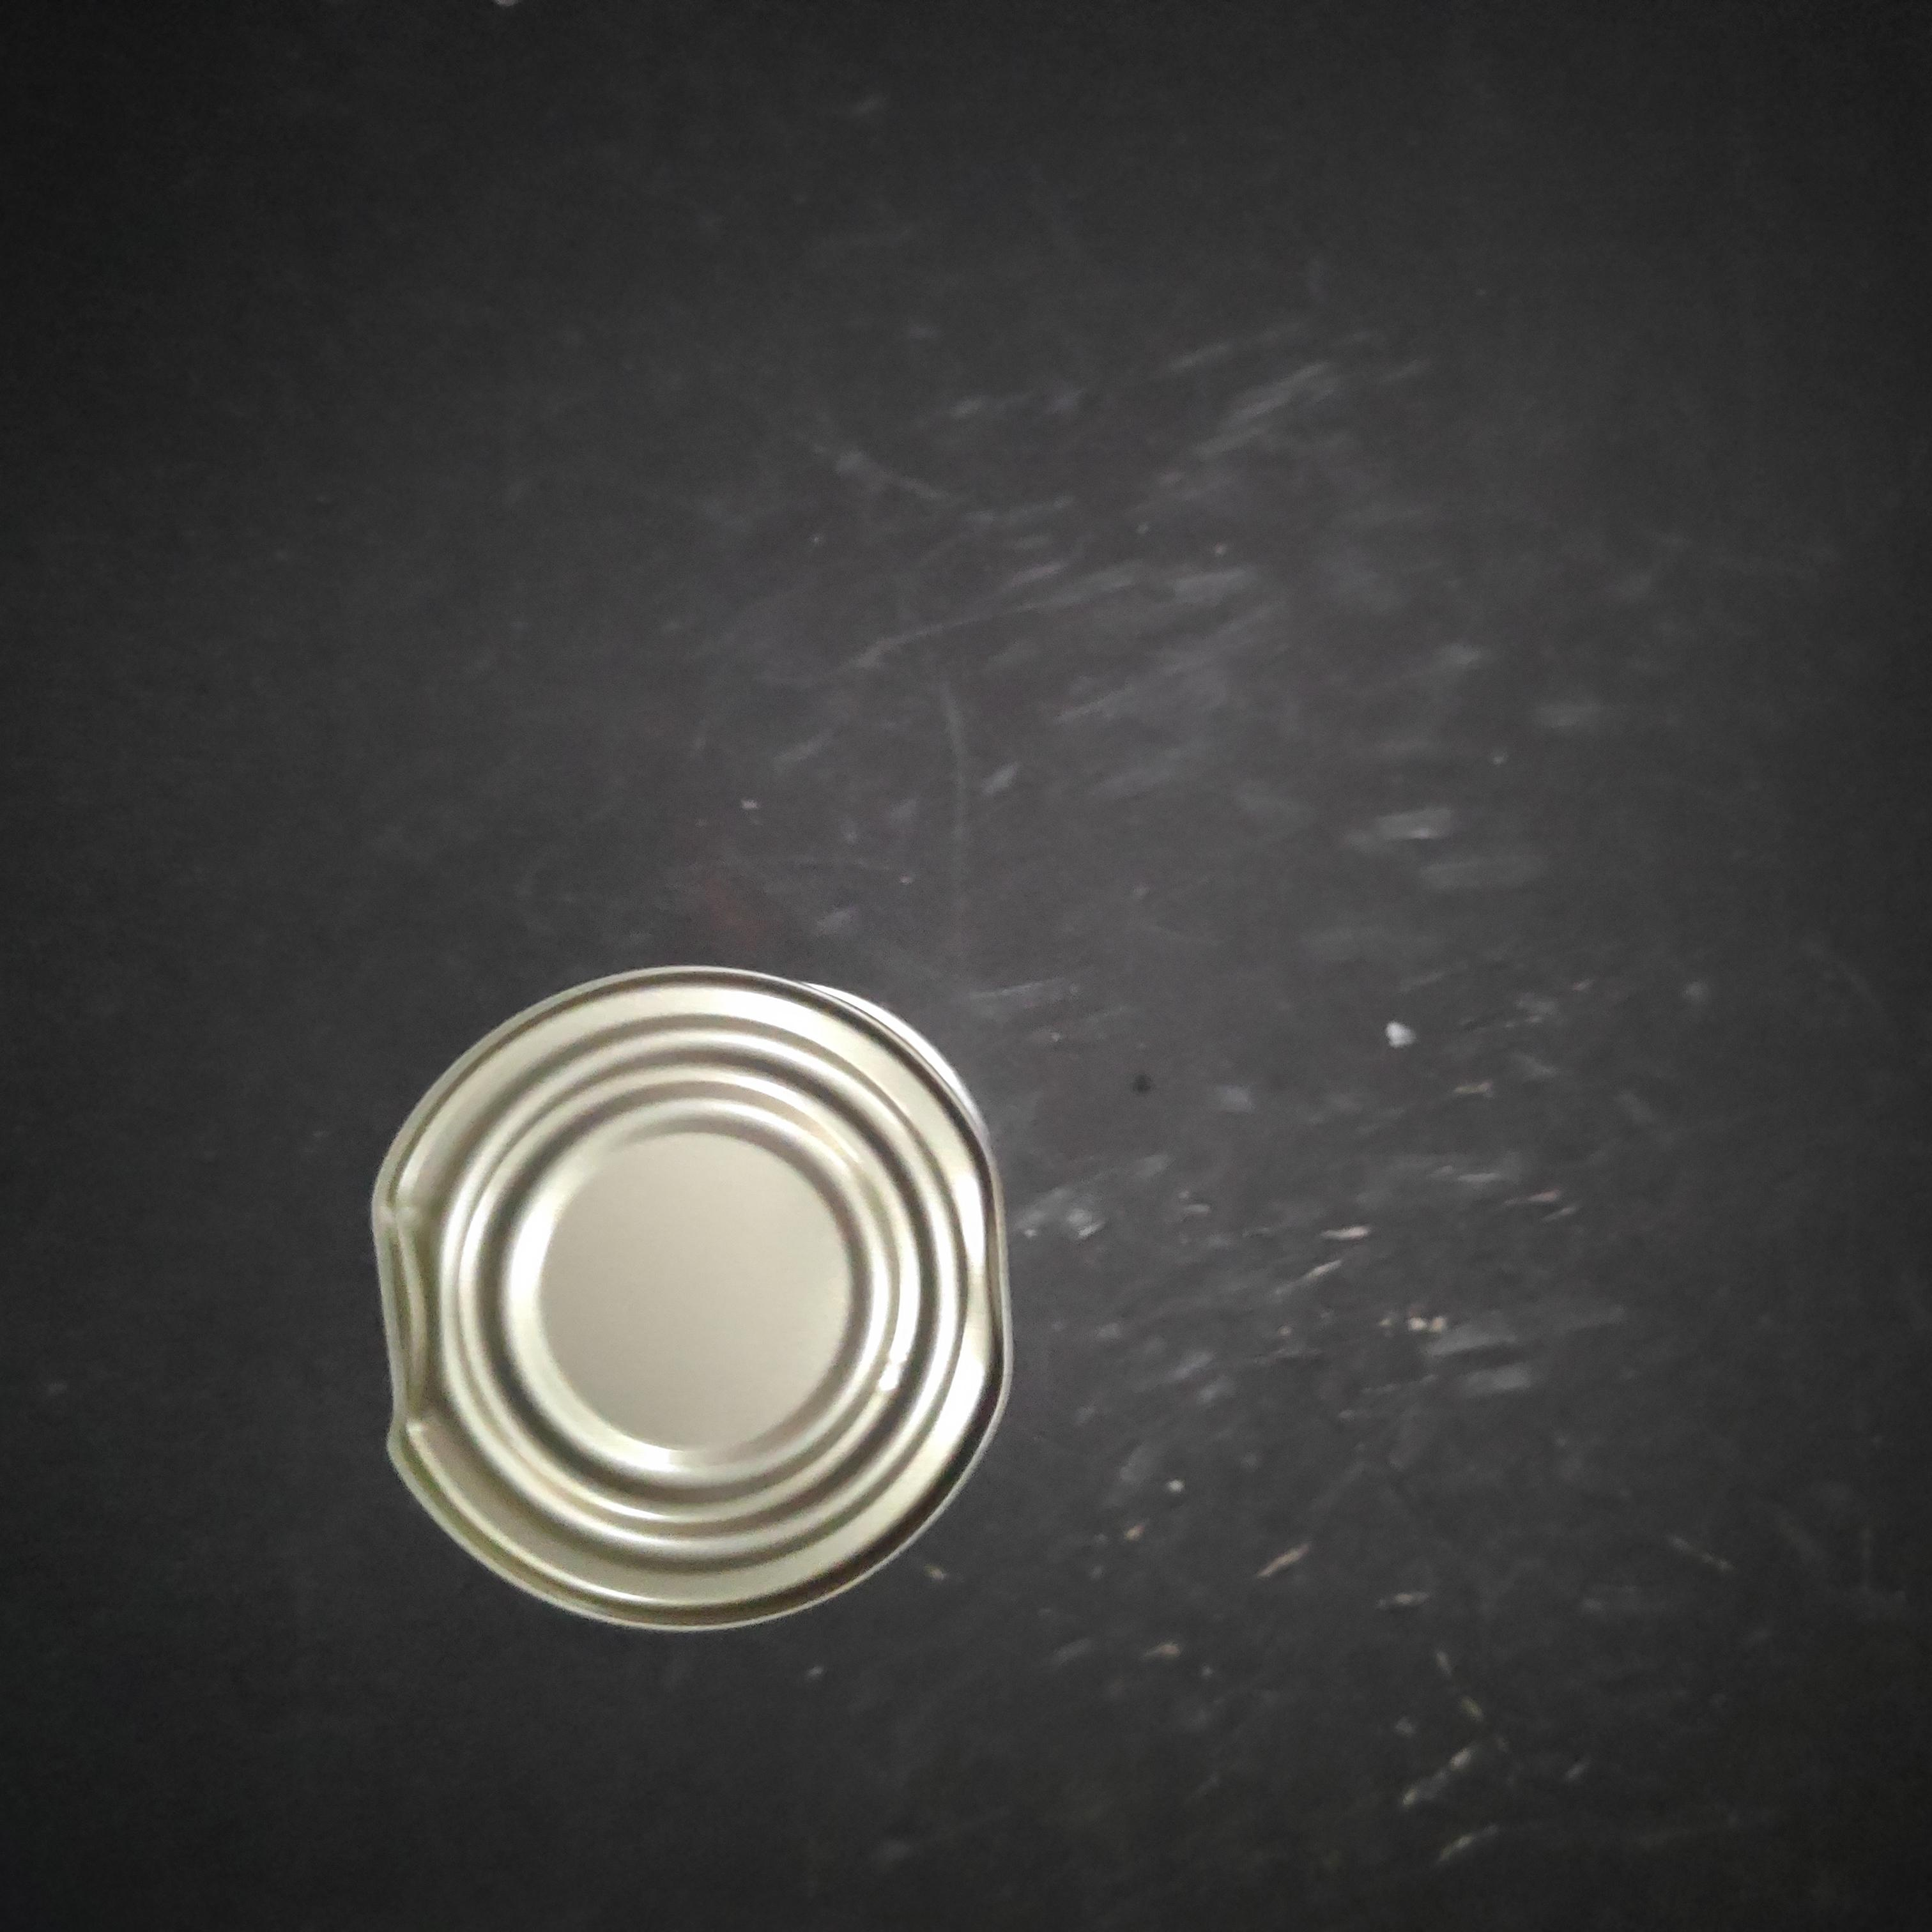Minor Defect: (906, 281, 1580, 989)
